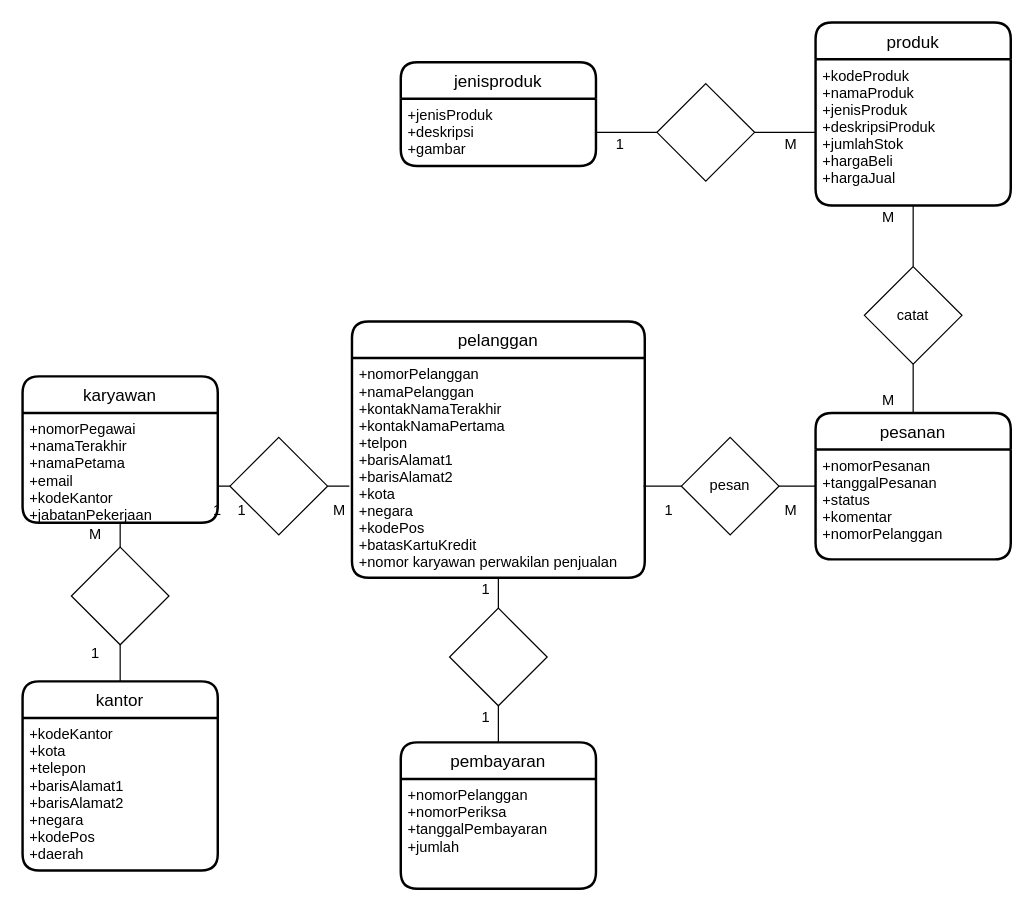
Image size: 1032x910. Some labels were removed from this diagram. Each missing label, with the centre of its shape:
bayar: the point at 497,656
detail: the point at 705,131
layan: the point at 278,485
tempat: the point at 119,595
